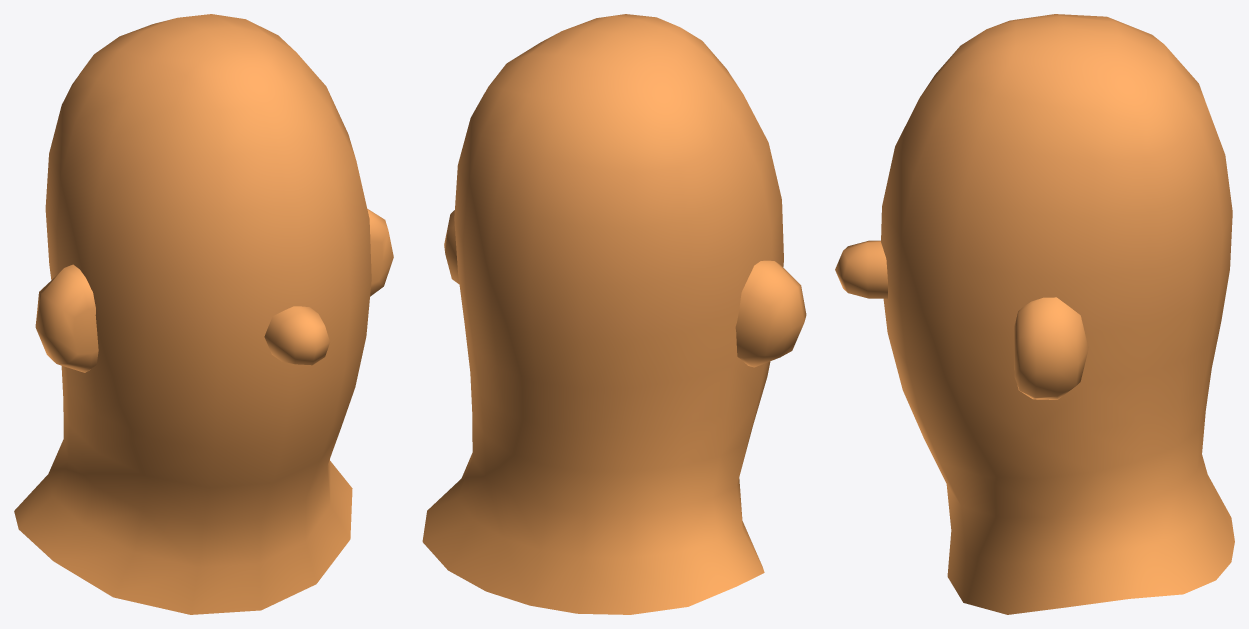
The model's file is Head_Female.fbx.
3 renders of one model, left to right at view 1: azimuth 30°, elevation 25°; view 2: azimuth 150°, elevation 25°; view 3: azimuth 270°, elevation 25°, orthographic.
Visible parts, largest first — view 1: Head_Female; view 2: Head_Female; view 3: Head_Female.
Boxes of the visible parts, bbox=[...] form: Head_Female: bbox=[14, 14, 393, 614]; Head_Female: bbox=[422, 14, 806, 614]; Head_Female: bbox=[835, 14, 1234, 614].
Bounding box in the file's own units: 29.87 × 29.14 × 44.14.
